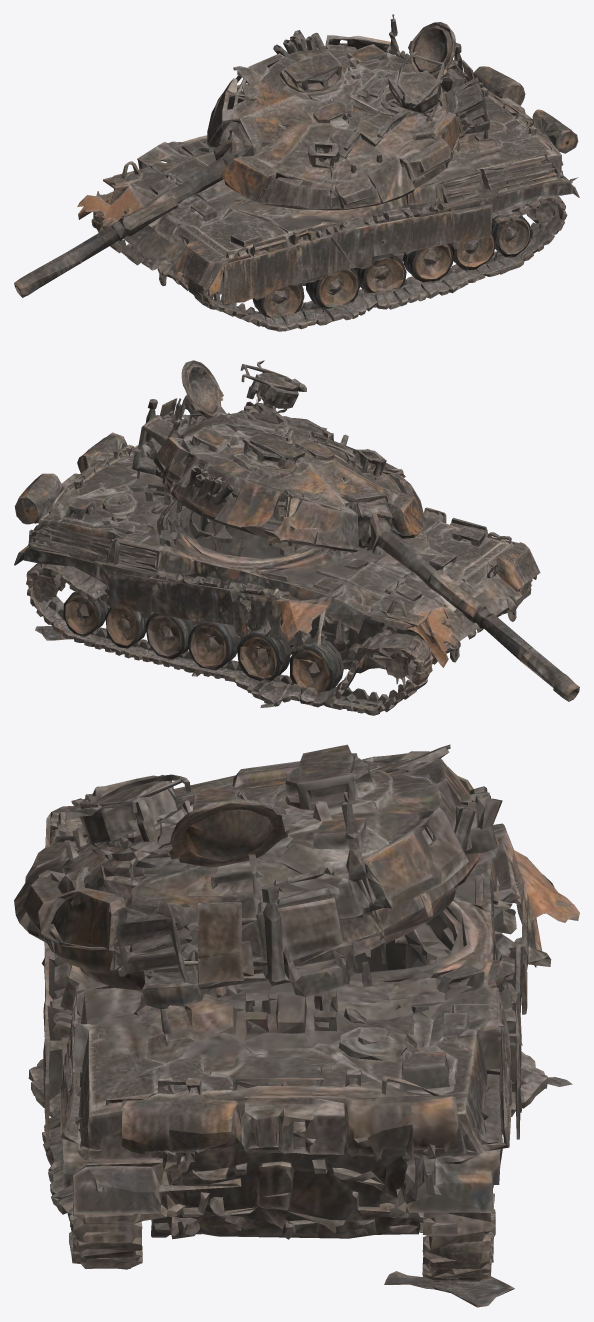
Rendered from tank.glb.
3 renders of one model, top to bottom at view 1: azimuth 30°, elevation 25°; view 2: azimuth 150°, elevation 25°; view 3: azimuth 270°, elevation 25°, orthographic. The views are drawn at different scales.
Parts seen in each view (by area): view 1: Mesh_0; view 2: Mesh_0; view 3: Mesh_0.
Part boxes in pixels (left/top/right/bottom): Mesh_0: left=14, top=14, right=579, bottom=331; Mesh_0: left=14, top=360, right=579, bottom=715; Mesh_0: left=14, top=744, right=579, bottom=1307.
Size of the model in its own units: 1.9 by 0.8094 by 0.9366.
Materials: 1 (1 with a texture image).
